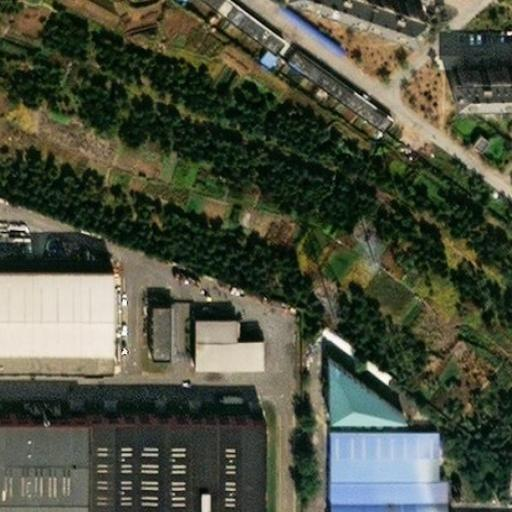building: (0, 256, 95, 358), (275, 38, 382, 121), (318, 417, 433, 492), (316, 345, 394, 408), (276, 0, 348, 58), (180, 305, 250, 357), (208, 0, 271, 39), (315, 492, 433, 511), (445, 55, 512, 81), (318, 322, 358, 356), (139, 293, 157, 346), (255, 44, 280, 70), (468, 126, 493, 151)
